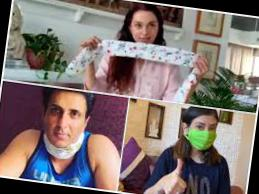mask_weared_incorrect: (41, 98, 88, 157), (131, 18, 159, 50)
with_mask: (189, 118, 220, 147)
